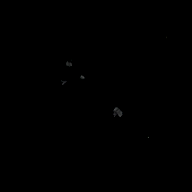v: (59, 59, 84, 84)
